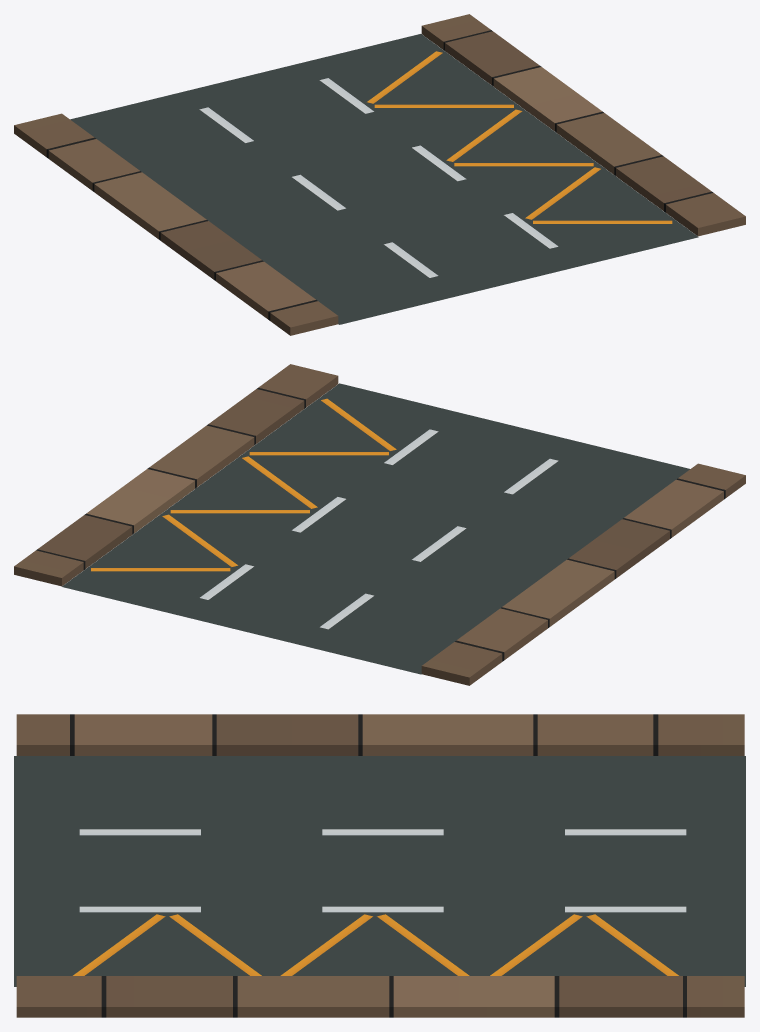
The model's file is Road_1_309.fbx.
3 renders of one model, top to bottom at view 1: azimuth 30°, elevation 25°; view 2: azimuth 150°, elevation 25°; view 3: azimuth 270°, elevation 25°, orthographic. The views are drawn at different scales.
Parts seen in each view (by area): view 1: Road_1_309; view 2: Road_1_309; view 3: Road_1_309.
Part boxes in pixels (left/top/right/bottom): Road_1_309: left=14, top=14, right=745, bottom=335; Road_1_309: left=14, top=364, right=745, bottom=685; Road_1_309: left=14, top=714, right=745, bottom=1017.
Bounding box in the file's own units: 1712 × 30 × 1810.
